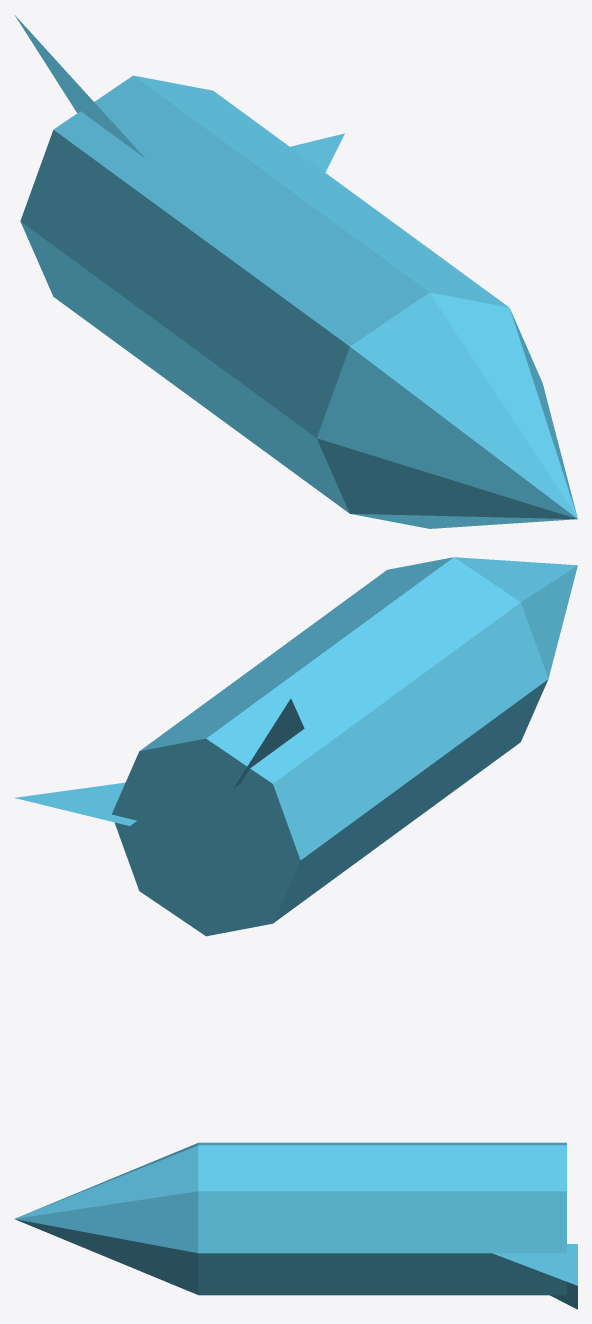
Rendered from explorer-rocket.glb.
3 renders of one model, top to bottom at view 1: azimuth 30°, elevation 25°; view 2: azimuth 150°, elevation 25°; view 3: azimuth 270°, elevation 25°, orthographic. The views are drawn at different scales.
Visible parts, largest first — view 1: OriginalLowPolyRocket; view 2: OriginalLowPolyRocket; view 3: OriginalLowPolyRocket.
Boxes of the visible parts, x1,y1,x2,y2 form: OriginalLowPolyRocket: (15,15,577,528); OriginalLowPolyRocket: (15,557,577,936); OriginalLowPolyRocket: (14,1142,577,1309).
Size of the model in its own units: 0.65 by 0.7448 by 1.53.
